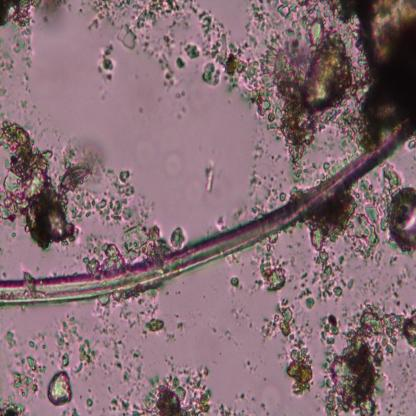Background material: (274, 1, 416, 178), (0, 119, 96, 243), (319, 310, 416, 415), (196, 9, 275, 124), (134, 363, 238, 415), (334, 181, 388, 260), (307, 222, 355, 302), (84, 1, 203, 25), (93, 296, 156, 338), (246, 143, 288, 206), (139, 30, 180, 92), (0, 0, 36, 67), (57, 144, 103, 196), (56, 314, 96, 372), (123, 224, 187, 258), (96, 168, 136, 222), (278, 3, 326, 47), (109, 336, 144, 384), (261, 298, 297, 343), (285, 342, 313, 396), (9, 356, 43, 398), (260, 242, 286, 292), (35, 0, 72, 35), (4, 76, 34, 119), (84, 242, 126, 272), (382, 267, 415, 303), (45, 368, 72, 405), (208, 318, 237, 348), (101, 383, 130, 412), (162, 146, 188, 178), (96, 42, 115, 84), (231, 298, 254, 330), (162, 316, 186, 343), (136, 132, 153, 168), (248, 392, 273, 415), (296, 285, 315, 312), (0, 398, 27, 416), (118, 24, 136, 50), (203, 166, 216, 194), (204, 64, 221, 84), (183, 41, 200, 61), (147, 318, 165, 335), (231, 387, 248, 403), (242, 357, 259, 372), (5, 330, 17, 350), (213, 214, 227, 231), (175, 104, 187, 121), (176, 57, 188, 72), (230, 275, 241, 288), (84, 393, 92, 409), (137, 101, 145, 115), (175, 90, 186, 100)
Diatom: (387, 186, 416, 251)
Natural material: (0, 114, 416, 308)
